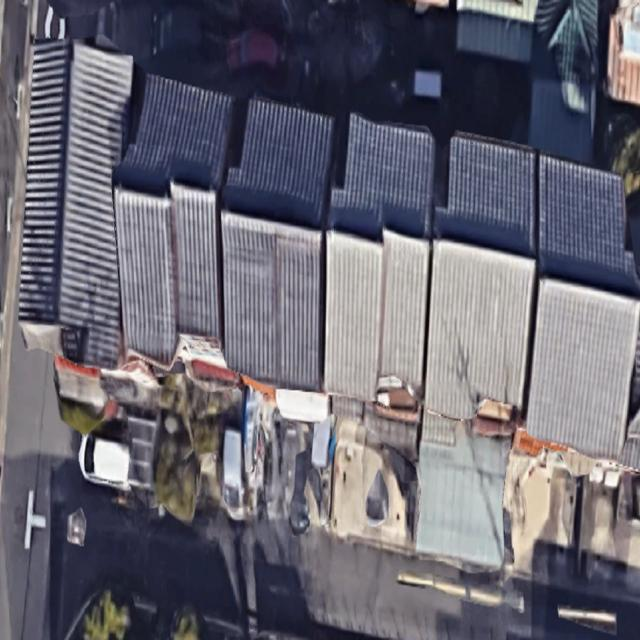Batiment: (19, 39, 132, 367), (526, 155, 640, 458), (221, 98, 334, 390), (115, 75, 232, 355), (425, 134, 536, 418), (325, 114, 435, 400)
